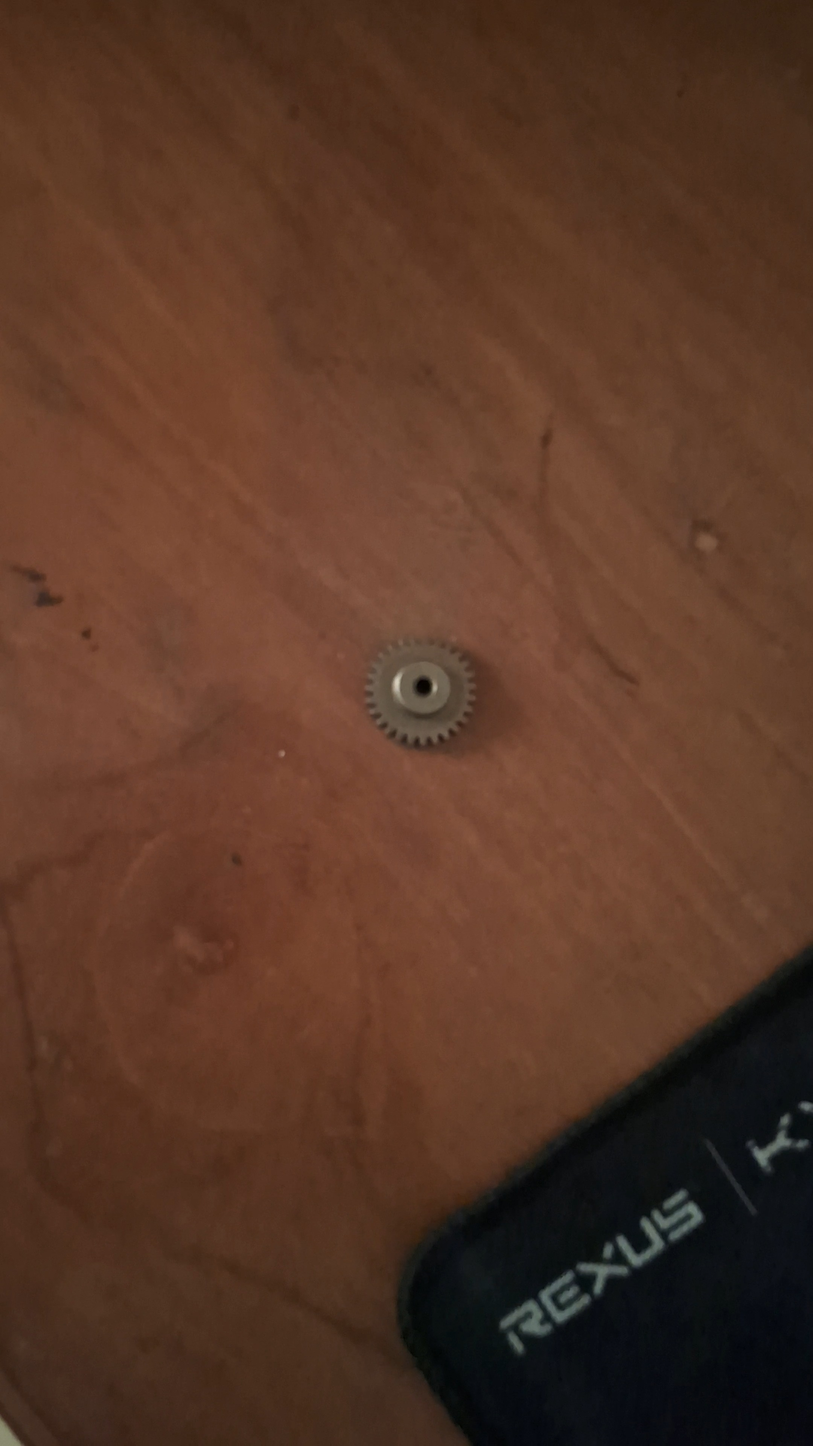spur gear: (366, 641, 474, 747)
